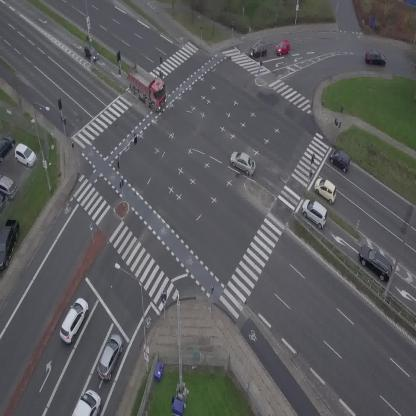car: (353, 241, 399, 285), (55, 295, 93, 345), (93, 332, 127, 382), (297, 195, 335, 231), (227, 147, 260, 177), (310, 175, 342, 204), (326, 146, 354, 173), (80, 43, 101, 64), (365, 50, 386, 65), (249, 42, 268, 57), (275, 40, 291, 56)
lorry: (119, 60, 174, 113), (72, 389, 101, 416)
